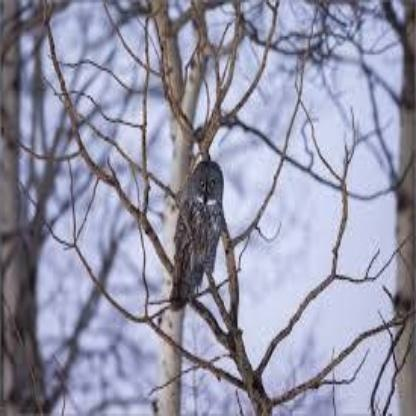Owl: (171, 160, 226, 299)
